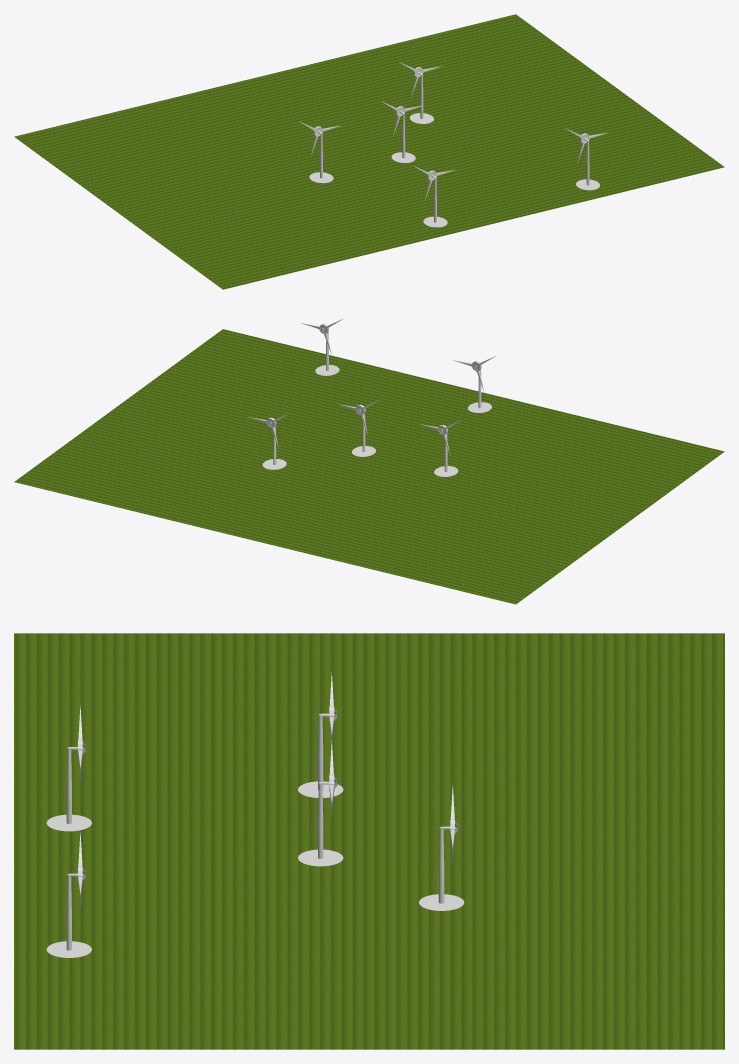
The model's file is kipas.glb.
3 renders of one model, top to bottom at view 1: azimuth 30°, elevation 25°; view 2: azimuth 150°, elevation 25°; view 3: azimuth 270°, elevation 25°, orthographic. The views are drawn at different scales.
Parts seen in each view (by area): view 1: Rumput; view 2: Rumput; view 3: Rumput, Cylinder.009, Cylinder.005, Cylinder.007, Cylinder.001, Cylinder.003.
Part boxes in pixels (box(x1,y1,x2,y2)): Rumput: box(14, 14, 724, 289); Rumput: box(14, 329, 724, 604); Rumput: box(14, 633, 724, 1049); Cylinder.009: box(419, 826, 464, 910); Cylinder.005: box(46, 873, 91, 957); Cylinder.007: box(46, 747, 91, 831); Cylinder.001: box(298, 782, 343, 866); Cylinder.003: box(298, 713, 343, 797).
Bounding box in the file's own units: 113 × 12.84 × 81.31.
Materials: 1 (1 with a texture image).
